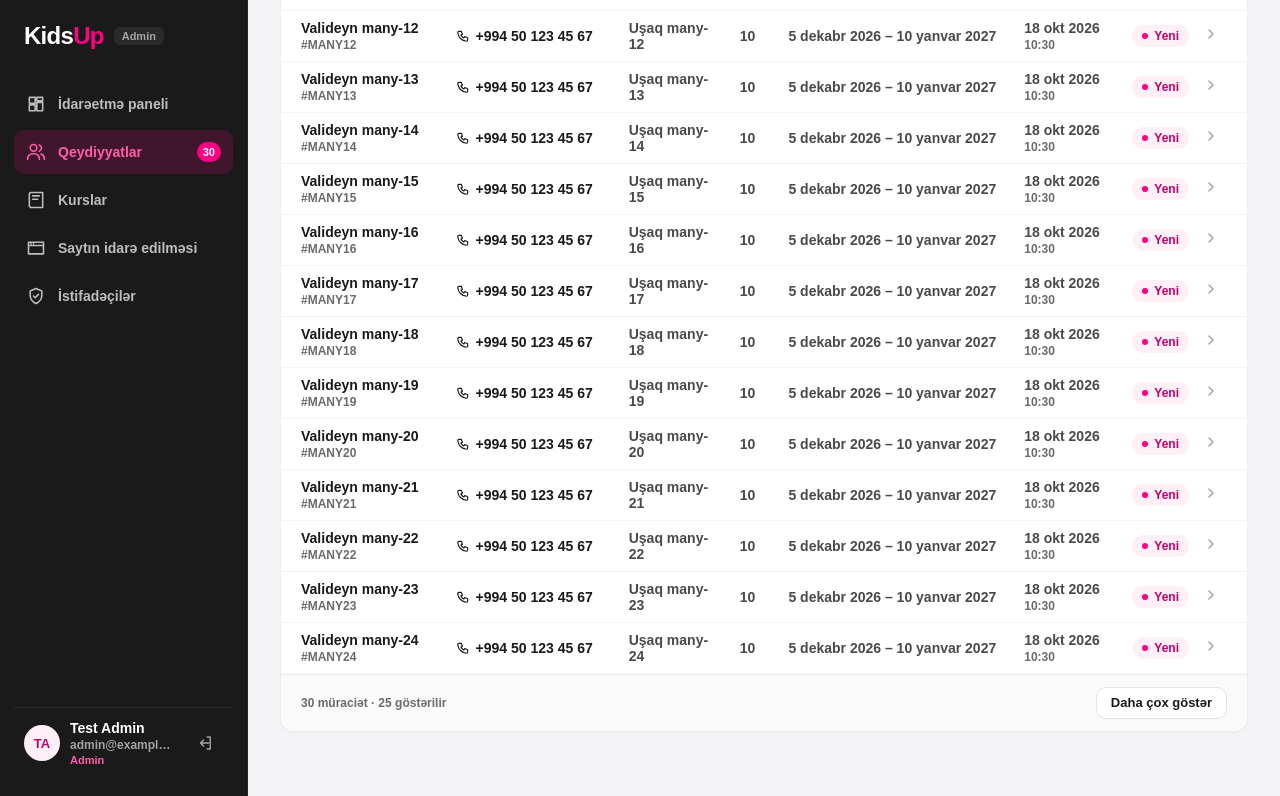
Test case: the list › says so when the next page cannot be loaded
(page scrolled)
Expected: the navigation bar named "Admin menyu" is shown, [14, 82, 233, 318]
What coordinates should you click on to do the following:
click the button "Daha çox göstər"
I would click on:
 (1161, 703)
Its box is [1096, 687, 1227, 719].
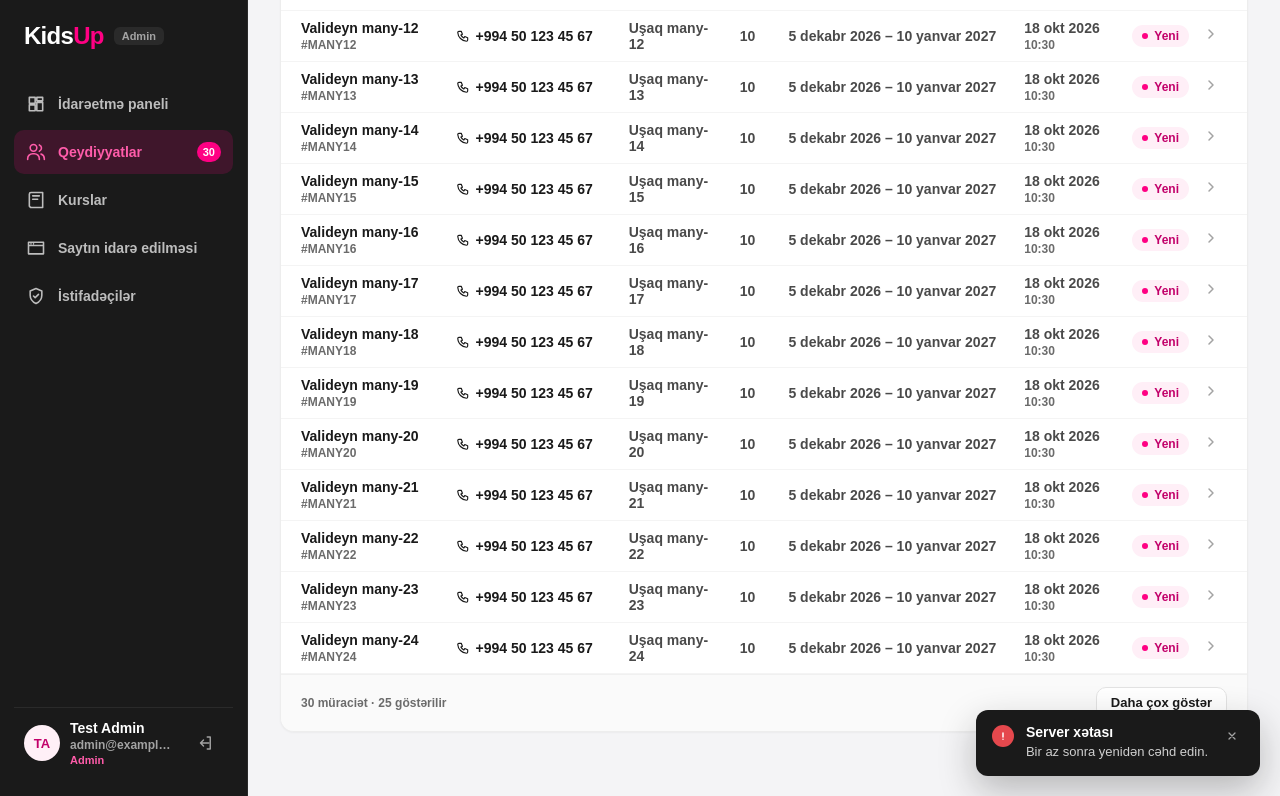
Now the text "Server xətası" is shown, box [1026, 724, 1113, 740]
